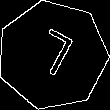L_SW: (27, 26, 78, 85)
